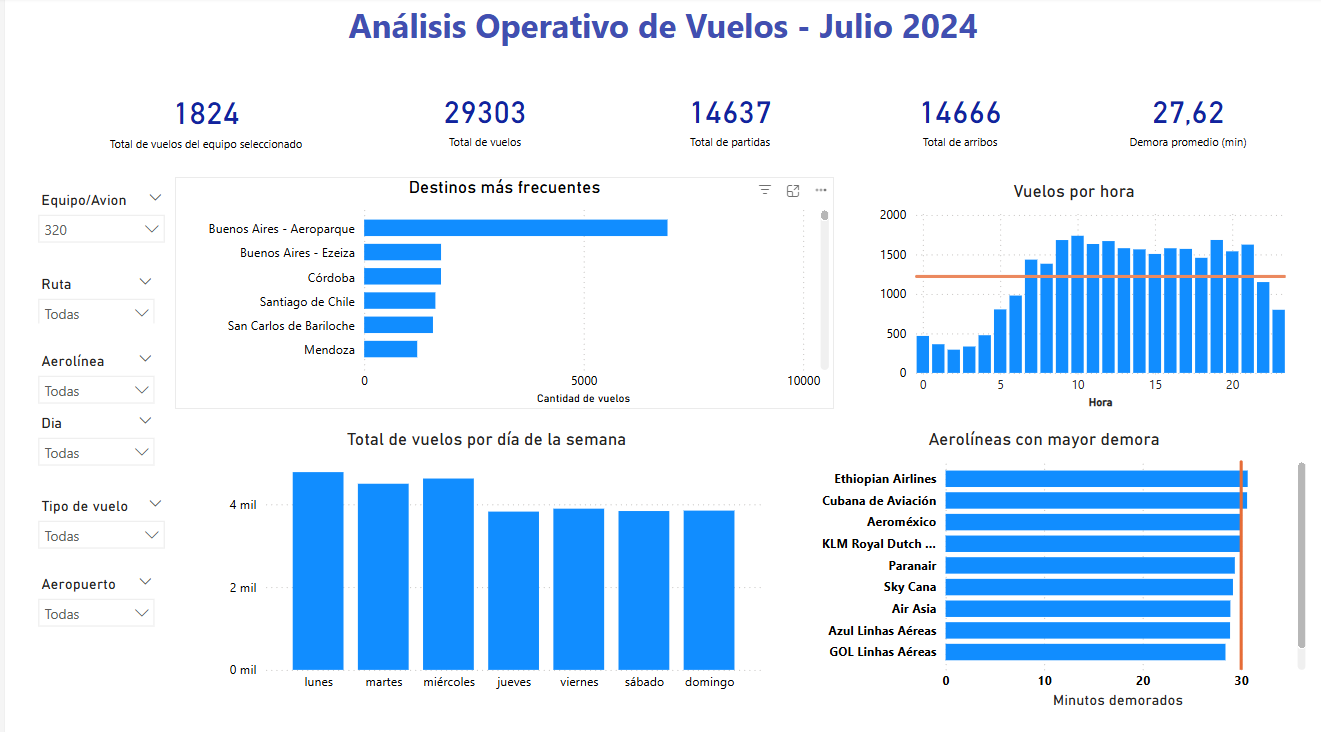

Layout of this report page (visuals, bound fields, positions):
{"tool":"powerbi","page":{"name":"Página 1","canvas":[1280,720],"ordinal":0},"visuals":[{"type":"textbox","box":[0,0,1280,61.7],"z":0},{"type":"card","fields":{"Values":["Fact_Vuelos.Total de vuelos"]},"box":[355,67.1,223.7,100.2],"z":1000},{"type":"card","fields":{"Values":["Fact_Vuelos.Total de partidas"]},"box":[593.3,67.1,223.7,100.2],"z":2000},{"type":"card","fields":{"Values":["Fact_Vuelos.Total de arribos"]},"box":[817,67.1,223.7,100.2],"z":3000},{"type":"card","fields":{"Values":["Fact_Vuelos.Total de vuelos del equipo seleccionado"]},"box":[45.7,70,299.6,97.3],"z":4000},{"type":"card","fields":{"Values":["Fact_Vuelos.Demora promedio (min)"]},"box":[1050.5,67.1,200.4,100.2],"z":5000},{"type":"slicer","fields":{"Values":["DimCodigoVuelo.NombreAerolinea"]},"box":[22.4,340.4,133.3,60.3],"z":6000},{"type":"slicer","fields":{"Values":["DimEquipo.Equipo"]},"box":[22.4,183.8,143,58.4],"z":7000},{"type":"slicer","fields":{"Values":["DimTiempo.NombreDia"]},"box":[22.4,400.7,133.3,61.3],"z":8000},{"type":"slicer","fields":{"Values":["DimRuta.NombreRuta"]},"box":[22.4,265.5,133.3,51.6],"z":9000},{"type":"slicer","fields":{"Values":["Fact_Vuelos.Tipo"]},"box":[22.4,481.5,143,68.1],"z":10000},{"type":"slicer","fields":{"Values":["DimAeropuerto.idAeropuerto"]},"box":[22.4,557.3,133.3,60.3],"z":11000},{"type":"clusteredBarChart","title":"Destinos más frecuentes","fields":{"Category":["DimRuta.NombreRuta"],"Y":["Fact_Vuelos.Total de vuelos"]},"box":[165.3,175.1,641,225.7],"z":12000},{"type":"clusteredColumnChart","title":"Vuelos por hora","fields":{"Category":["DimTiempo.HoraDelDiaInteger"],"Y":["Fact_Vuelos.Total de vuelos"]},"box":[828.7,179,422.1,225.7],"z":13000},{"type":"clusteredColumnChart","title":"Total de vuelos por día de la semana","fields":{"Y":["Fact_Vuelos.Total de vuelos"],"Category":["DimTiempo.NombreDia"]},"box":[195.5,420.2,545.7,274.3],"z":14000},{"type":"clusteredBarChart","title":"Aerolíneas con mayor demora","fields":{"Y":["Fact_Vuelos.Demora promedio (min)"],"Category":["DimCodigoVuelo.NombreAerolinea"]},"box":[750.9,420.2,519.4,276.2],"z":16000}]}

Visuals, with their boxes in screenshot pixels (x1, y1, x2, y2), scaled from the page's 1280x720 canvas onto the 1321x732 screenshot:
textbox: left=0, top=0, right=1320, bottom=63
card - Fact_Vuelos.Total de vuelos: left=366, top=68, right=597, bottom=170
card - Fact_Vuelos.Total de partidas: left=612, top=68, right=843, bottom=170
card - Fact_Vuelos.Total de arribos: left=843, top=68, right=1074, bottom=170
card - Fact_Vuelos.Total de vuelos del equipo seleccionado: left=47, top=71, right=356, bottom=170
card - Fact_Vuelos.Demora promedio (min): left=1084, top=68, right=1291, bottom=170
slicer - DimCodigoVuelo.NombreAerolinea: left=23, top=346, right=161, bottom=407
slicer - DimEquipo.Equipo: left=23, top=187, right=171, bottom=246
slicer - DimTiempo.NombreDia: left=23, top=407, right=161, bottom=470
slicer - DimRuta.NombreRuta: left=23, top=270, right=161, bottom=322
slicer - Fact_Vuelos.Tipo: left=23, top=490, right=171, bottom=559
slicer - DimAeropuerto.idAeropuerto: left=23, top=567, right=161, bottom=628
"Destinos más frecuentes" clusteredBarChart: left=171, top=178, right=832, bottom=407
"Vuelos por hora" clusteredColumnChart: left=855, top=182, right=1291, bottom=411
"Total de vuelos por día de la semana" clusteredColumnChart: left=202, top=427, right=765, bottom=706
"Aerolíneas con mayor demora" clusteredBarChart: left=775, top=427, right=1311, bottom=708
